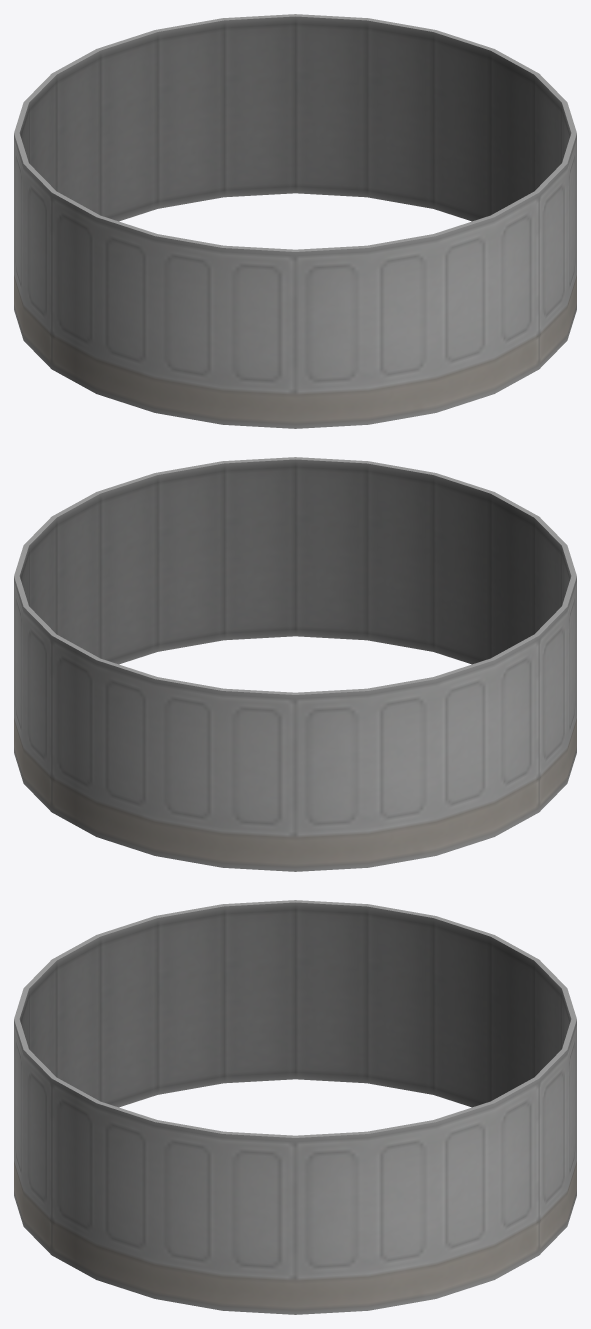
The model's file is ALV_3_Engine_1_Fairing.obj.
3 renders of one model, top to bottom at view 1: azimuth 30°, elevation 25°; view 2: azimuth 150°, elevation 25°; view 3: azimuth 270°, elevation 25°, orthographic.
Visible parts, largest first — view 1: ALV_3_Engine_1_Fairing; view 2: ALV_3_Engine_1_Fairing; view 3: ALV_3_Engine_1_Fairing.
Boxes of the visible parts, x1,y1,x2,y2 form: ALV_3_Engine_1_Fairing: (14, 14, 576, 428); ALV_3_Engine_1_Fairing: (14, 457, 576, 871); ALV_3_Engine_1_Fairing: (14, 900, 576, 1314).
Bounding box in the file's own units: 2.5 × 0.8665 × 2.5.
